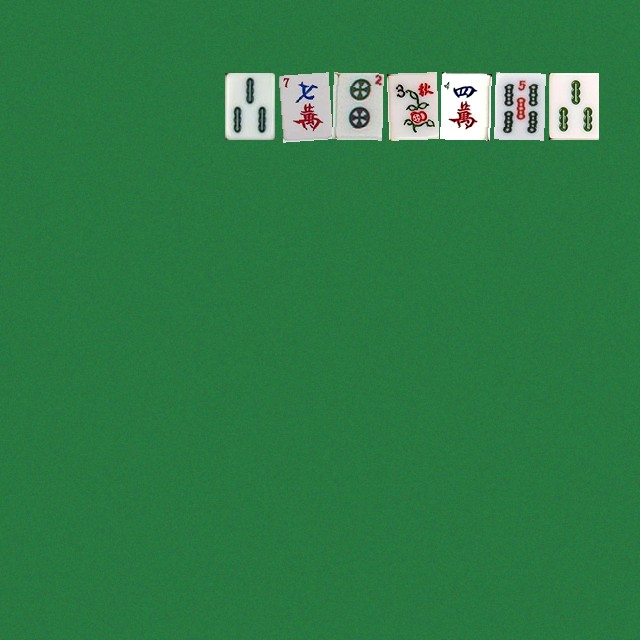tile: (224, 72, 274, 139), (278, 72, 328, 139), (332, 72, 382, 139), (386, 72, 436, 139), (440, 72, 490, 139), (494, 72, 544, 139), (548, 72, 598, 139)
